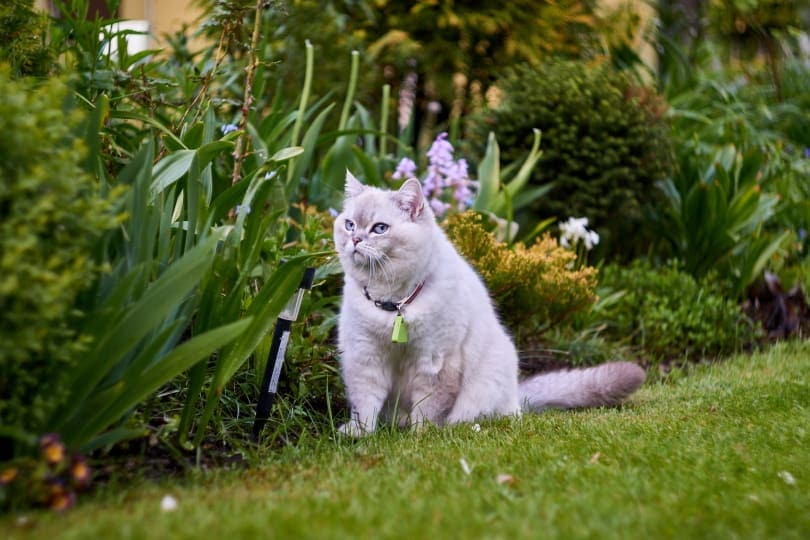cat: (331, 166, 651, 435)
